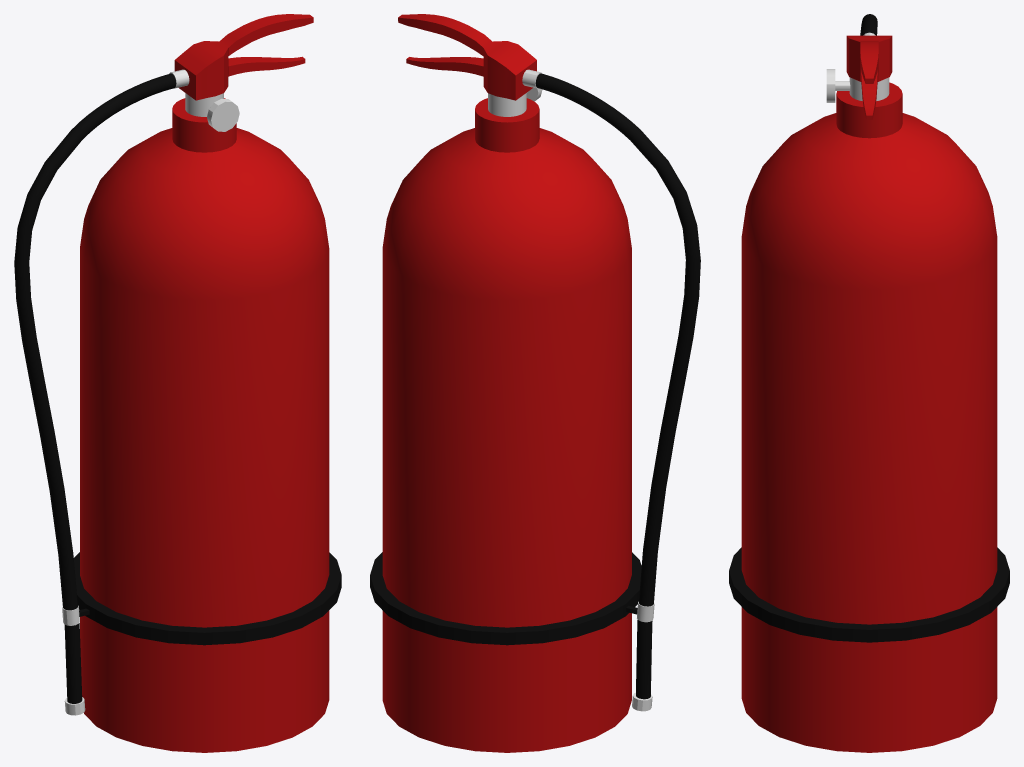
The model's file is estintore.fbx.
The picture shows the model from 3 angles, left to right: view 1: azimuth 30°, elevation 25°; view 2: azimuth 150°, elevation 25°; view 3: azimuth 270°, elevation 25°; orthographic projection. The views are drawn at different scales.
Parts seen in each view (by area): view 1: Estintore; view 2: Estintore; view 3: Estintore.
Boxes of the visible parts, left/top/right/bottom form: Estintore: left=14, top=14, right=341, bottom=752; Estintore: left=370, top=14, right=700, bottom=752; Estintore: left=729, top=14, right=1009, bottom=752.
Size of the model in its own units: 38.73 by 79.32 by 29.7.
